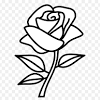rose: (13, 4, 88, 54)
